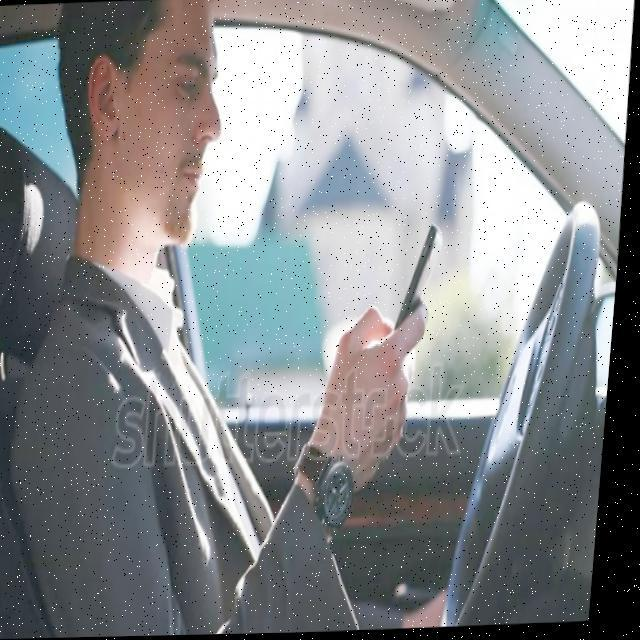PhoneCall: (392, 224, 452, 361)
